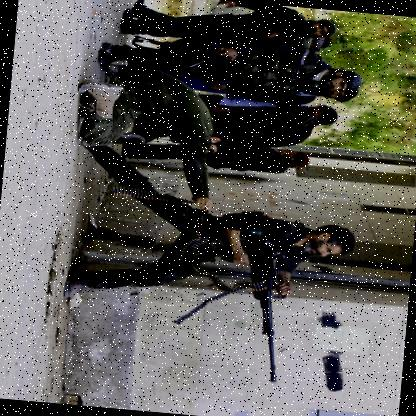rifle: (221, 229, 294, 385), (171, 19, 278, 86)
